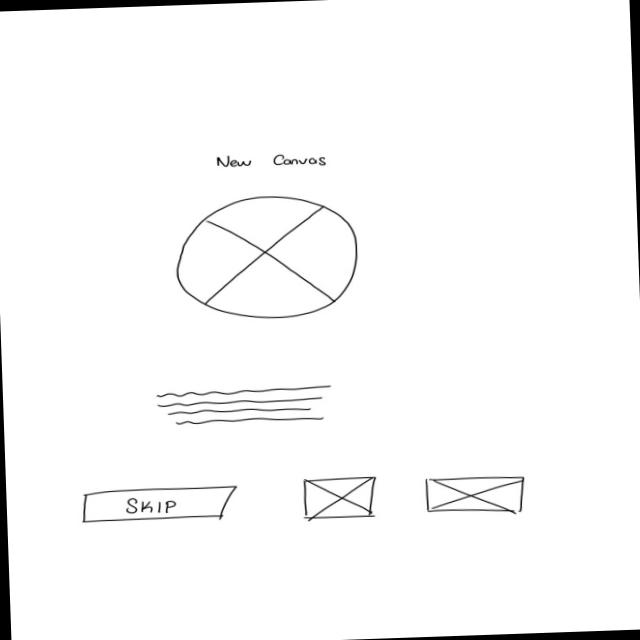button: (80, 484, 242, 525)
image: (171, 193, 364, 324), (423, 474, 530, 518), (299, 475, 380, 525)
label: (214, 152, 334, 173)
textbox: (154, 381, 338, 430)
